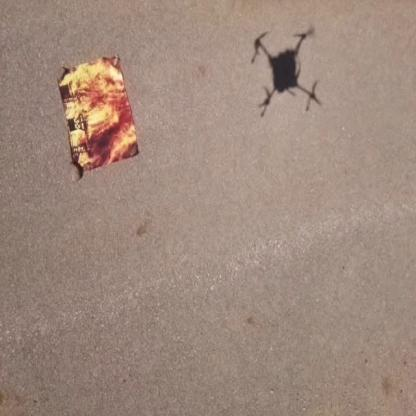fire-poster: (55, 53, 140, 177)
